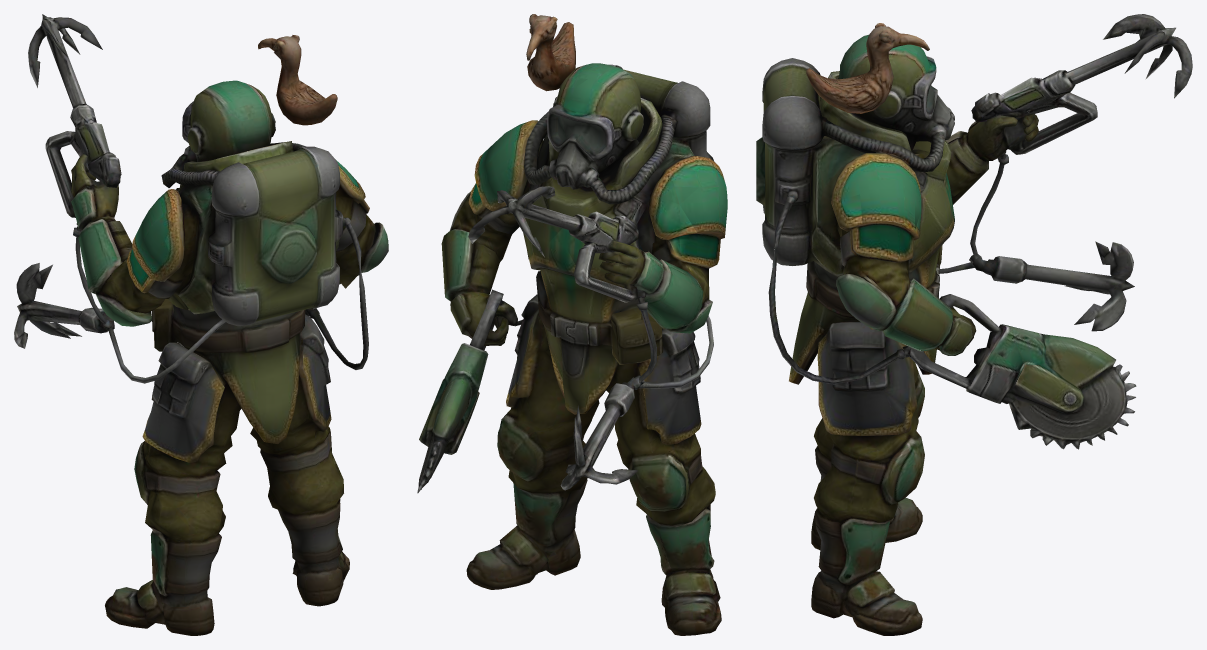
Rendered from emerald_cutter.glb.
3 renders of one model, left to right at view 1: azimuth 30°, elevation 25°; view 2: azimuth 150°, elevation 25°; view 3: azimuth 270°, elevation 25°, orthographic. The views are drawn at different scales.
Visible parts, largest first — view 1: Body, Trim; view 2: Body, Trim; view 3: Body, Trim.
Boxes of the visible parts, x1=… form: Body: x1=14, y1=14, x2=388, y2=635; Trim: x1=85, y1=80, x2=352, y2=278; Body: x1=417, y1=14, x2=725, y2=635; Trim: x1=474, y1=63, x2=727, y2=274; Body: x1=756, y1=14, x2=1192, y2=635; Trim: x1=841, y1=34, x2=954, y2=230.
Bounding box in the file's own units: 0.9194 × 1.8 × 1.23.
2 materials, 2 textured.
